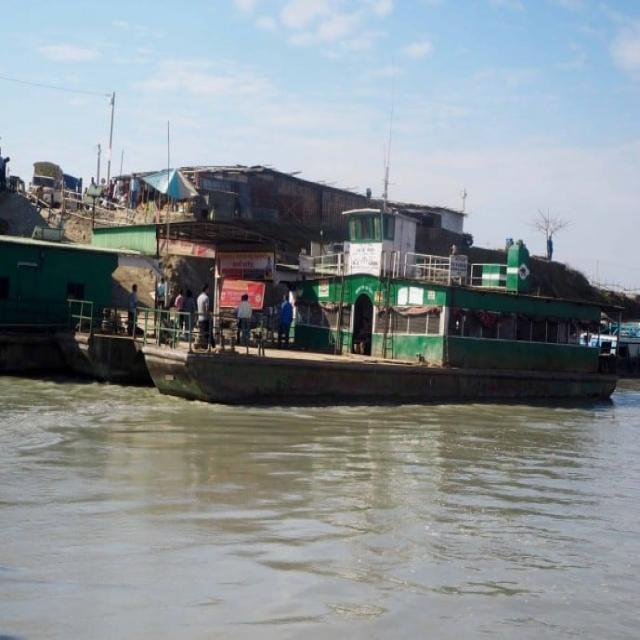houseboat: (134, 158, 628, 426)
